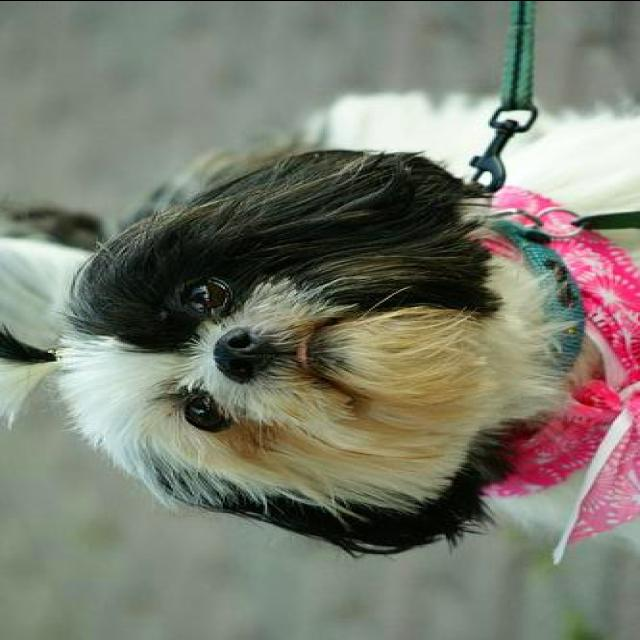shih_tzu: (0, 90, 638, 554)
